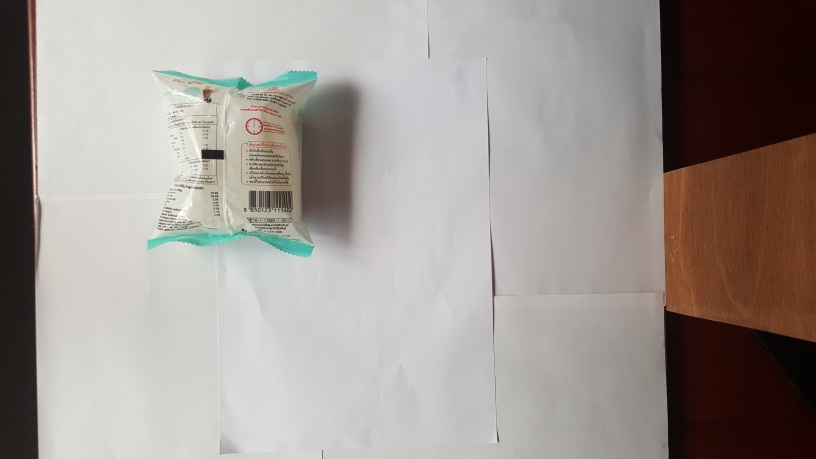farmhouse-sweetsandwich-chocolate: (141, 64, 323, 269)
